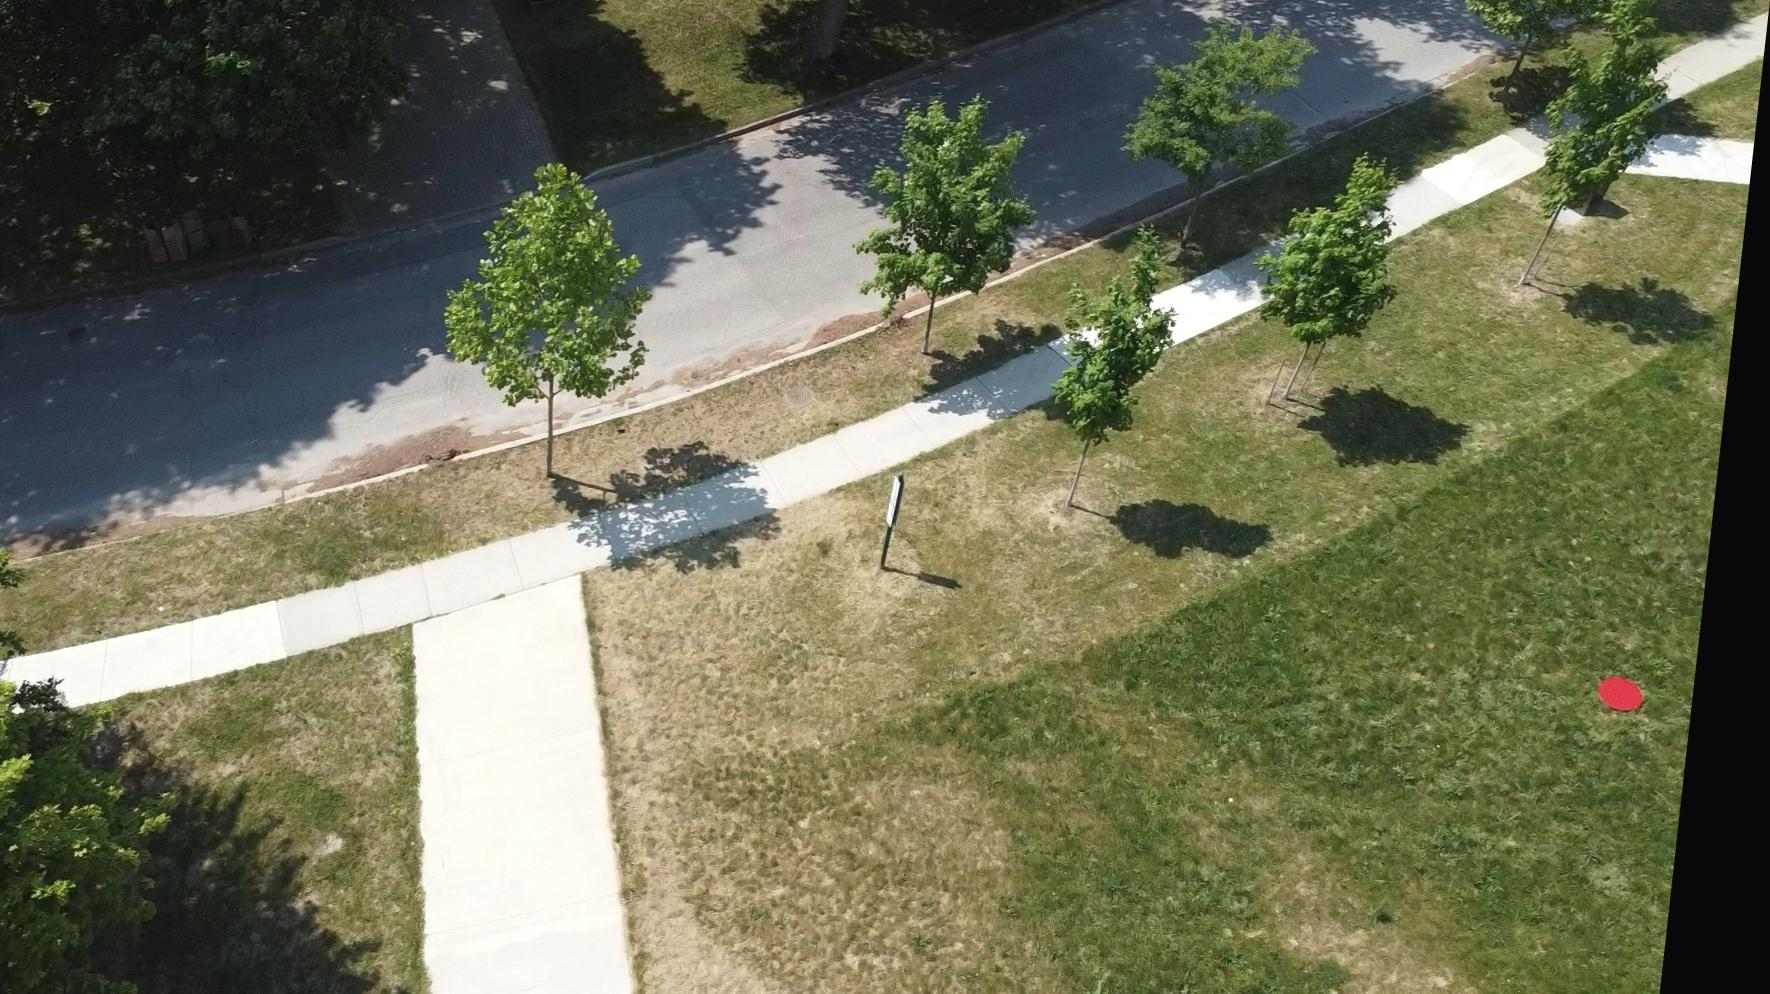Red: (1608, 674, 1664, 713)
